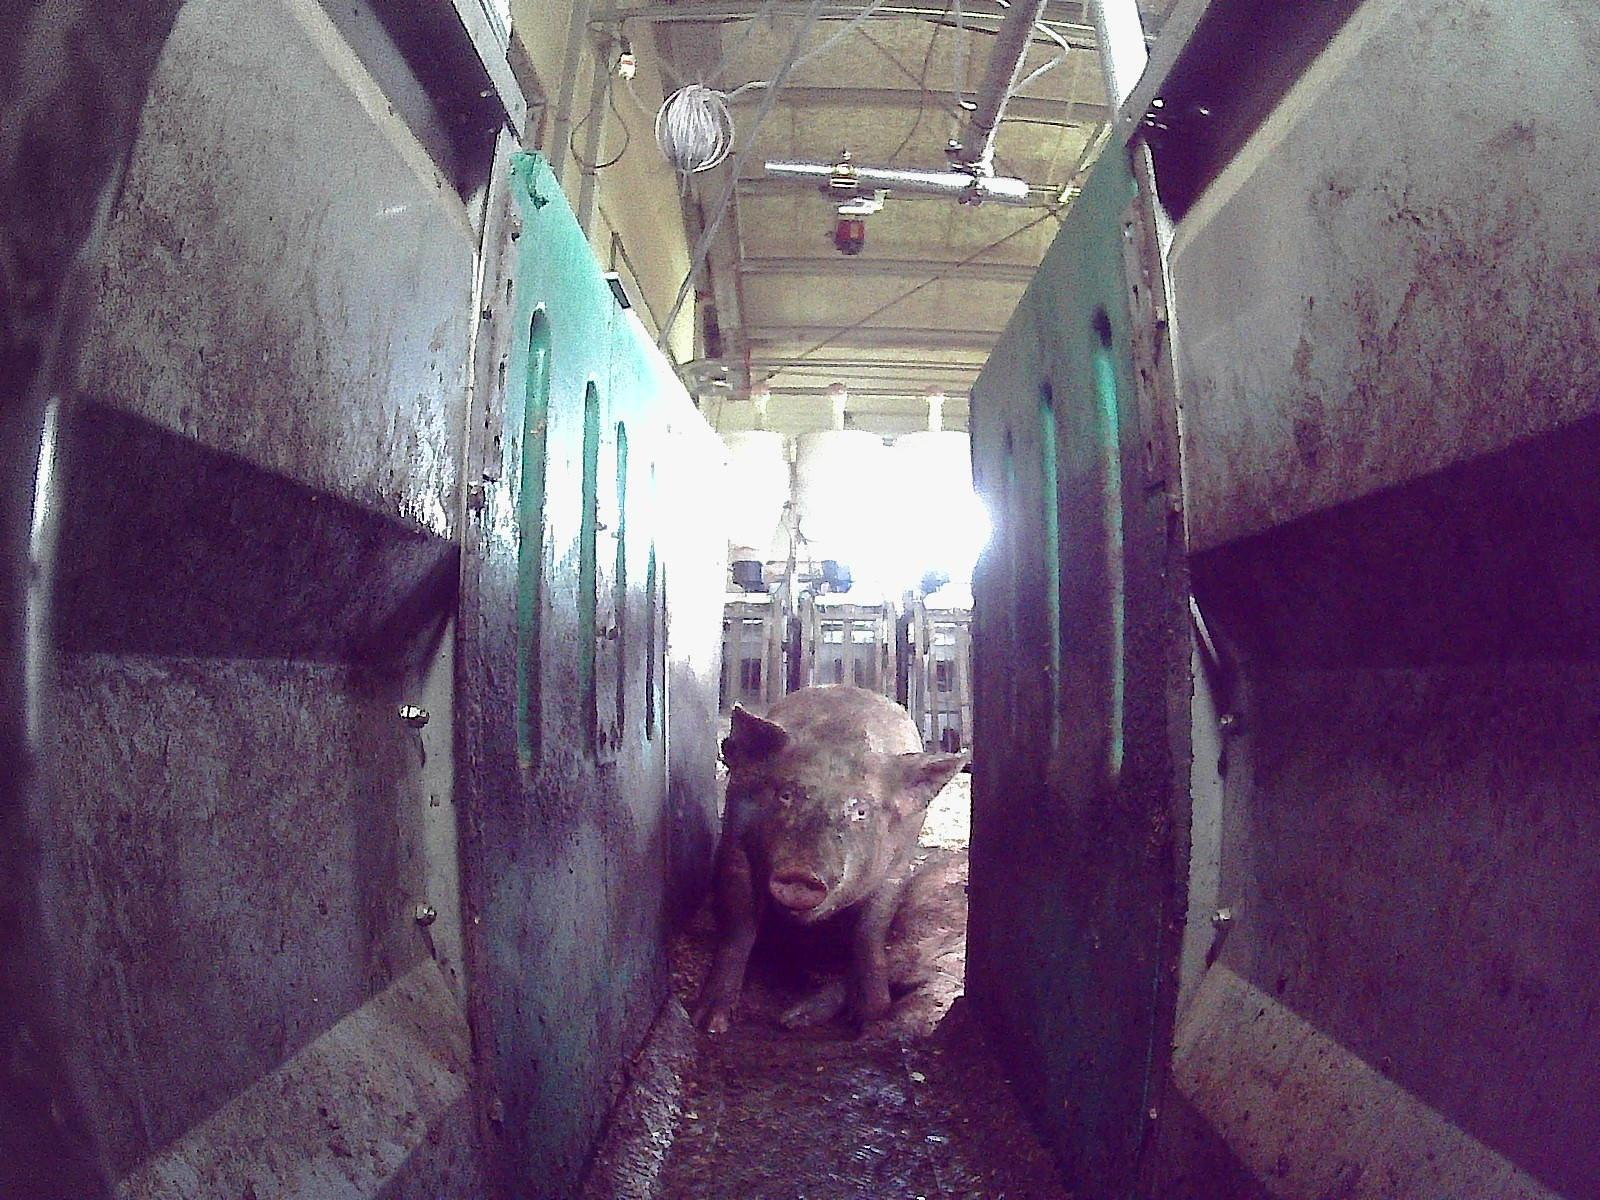Face: (750, 753, 895, 923)
